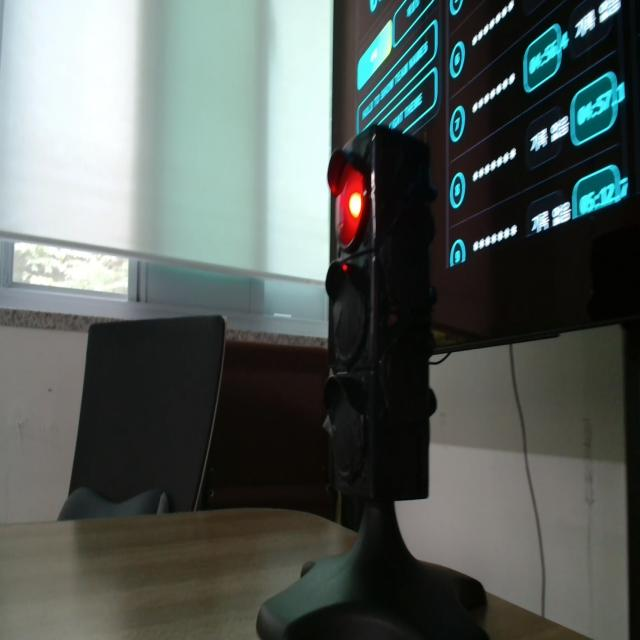red_light: (336, 164, 367, 248), (349, 192, 362, 218), (342, 264, 348, 272)
